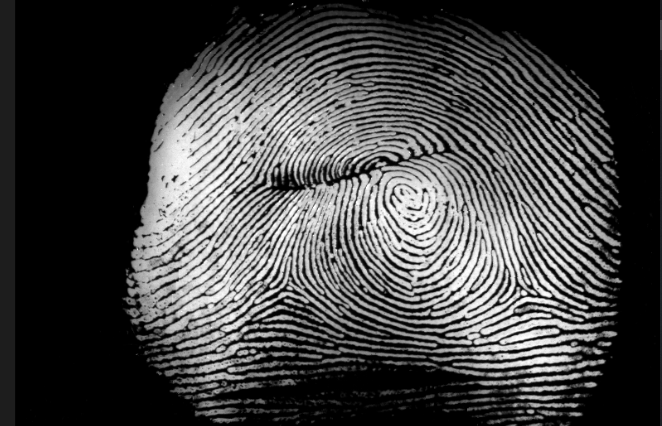deltas: (258, 254, 317, 316), (495, 262, 548, 315)
nucleo: (376, 168, 433, 220)
